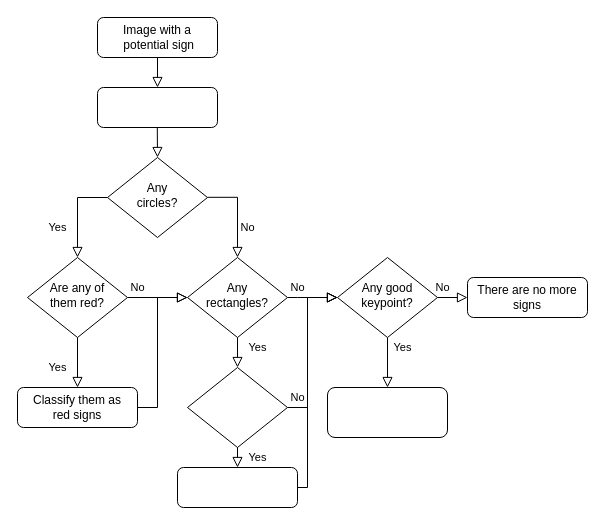
The diagram is 605 pixels wide and 525 high, and some of its shapes have lost their labels. Each missing label, with the box of its shape:
Are any of them blue?: (186, 366, 288, 448)
Classify them accordingly to the keypoint match: (326, 386, 448, 438)
Classify them as blue squares: (176, 466, 298, 508)
Preprocess image, getting all shapes: (96, 86, 218, 128)
